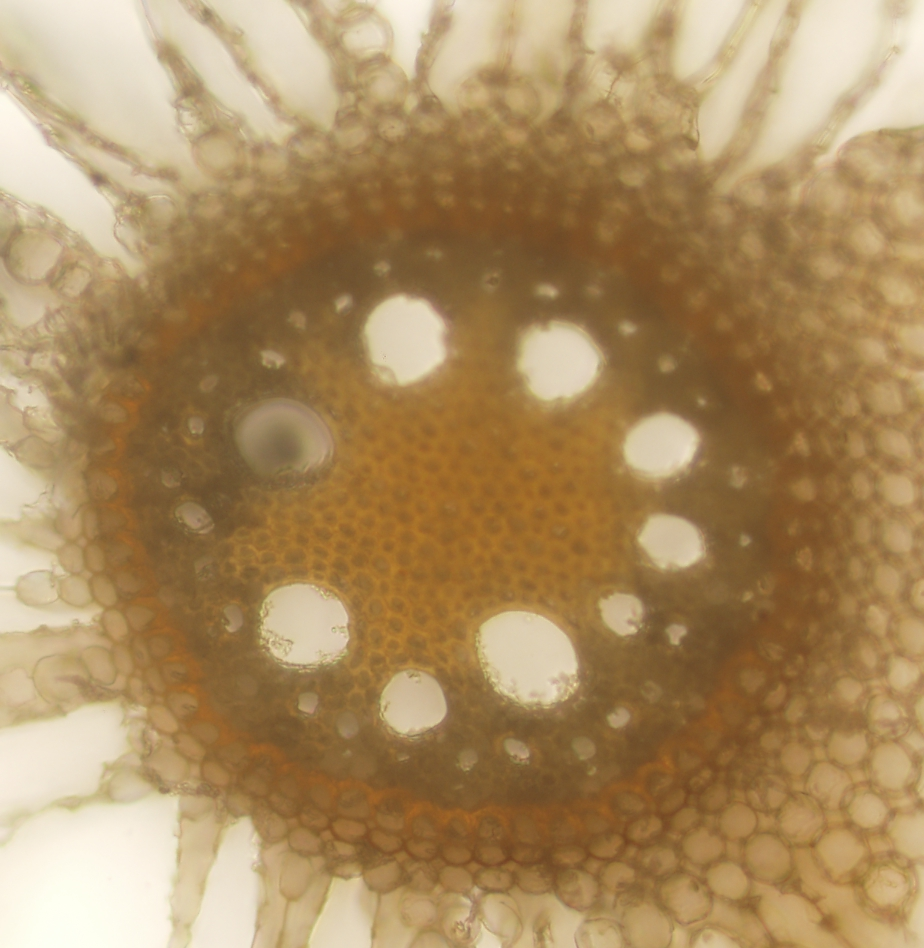lm: (477, 608, 579, 707), (230, 398, 335, 480), (363, 292, 448, 389), (259, 580, 350, 669), (513, 317, 602, 403), (622, 410, 700, 477), (380, 669, 447, 732), (637, 510, 706, 570)
